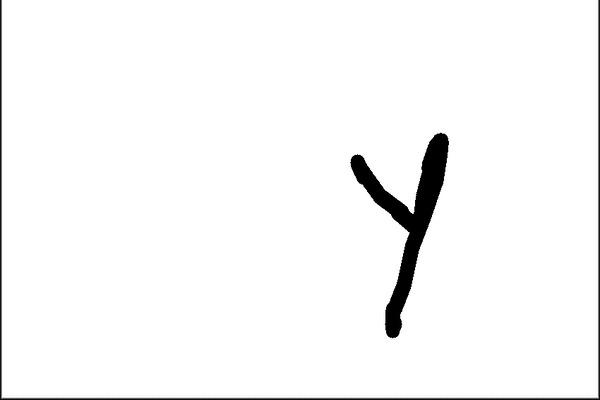Y: (338, 123, 461, 353)
